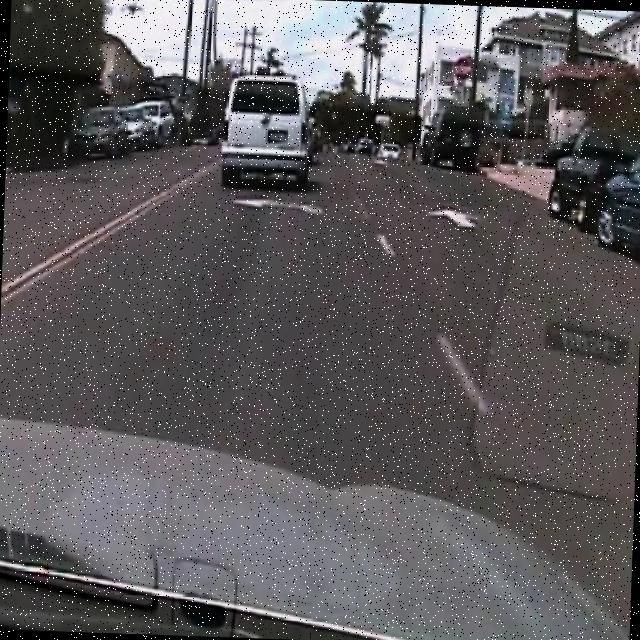Stop: (452, 55, 473, 83)
